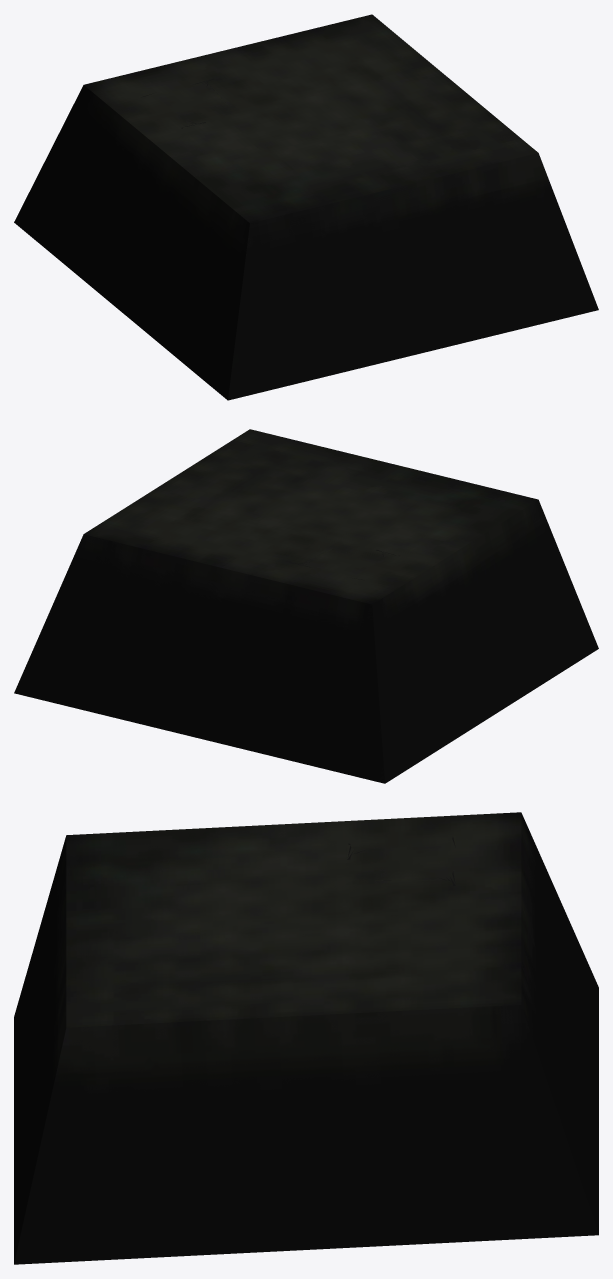
The model's file is link_38__key-44.glb.
The picture shows the model from 3 angles, top to bottom: view 1: azimuth 30°, elevation 25°; view 2: azimuth 150°, elevation 25°; view 3: azimuth 270°, elevation 25°; orthographic projection. The views are drawn at different scales.
Visible parts, largest first — view 1: geometry_0; view 2: geometry_0; view 3: geometry_0.
Part boxes in pixels (x1,y1,x2,y2): geometry_0: (14,14,598,400); geometry_0: (14,429,598,783); geometry_0: (14,812,598,1264).
Bounding box in the file's own units: 0.0719 × 0.0315 × 0.0718.
Materials: 1 (1 with a texture image).
